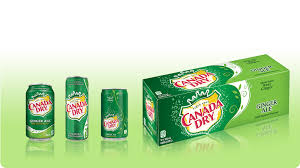Lata: (23, 82, 57, 143)
